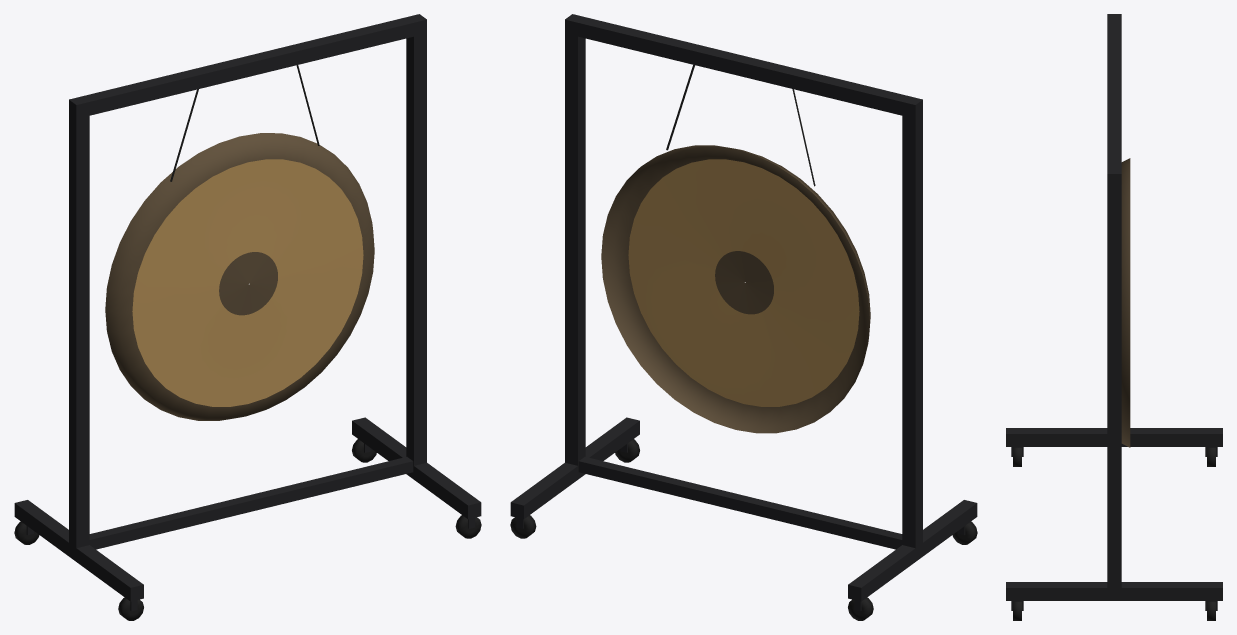
The model's file is gong-40.glb.
3 renders of one model, left to right at view 1: azimuth 30°, elevation 25°; view 2: azimuth 150°, elevation 25°; view 3: azimuth 270°, elevation 25°, orthographic. The views are drawn at different scales.
Visible parts, largest first — view 1: gong, frame, gong-dark, rubber; view 2: gong, frame, gong-dark, rubber; view 3: frame, gong-dark, rubber.
Part boxes in pixels (x1,y1,x2,y2): gong: [132, 159, 363, 406]; frame: [14, 14, 481, 611]; gong-dark: [105, 133, 374, 420]; rubber: [14, 65, 481, 620]; gong: [628, 159, 859, 406]; frame: [510, 14, 977, 611]; gong-dark: [601, 145, 870, 433]; rubber: [510, 65, 977, 620]; frame: [1006, 14, 1222, 610]; gong-dark: [1121, 158, 1130, 447]; rubber: [1013, 447, 1215, 620].
Size of the model in its own units: 1.36 by 1.74 by 0.76.
